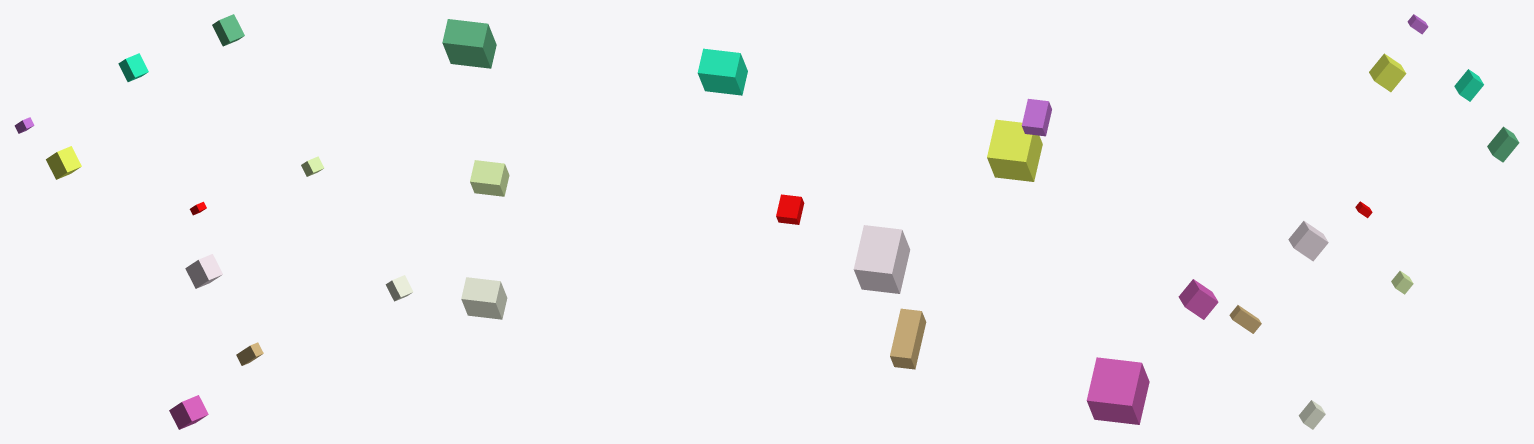
Rendered from batchedColors.glb.
3 renders of one model, left to right at view 1: azimuth 30°, elevation 25°; view 2: azimuth 150°, elevation 25°; view 3: azimuth 270°, elevation 25°, orthographic. The views are drawn at different scales.
Size of the model in its own units: 200 by 145 by 161.
